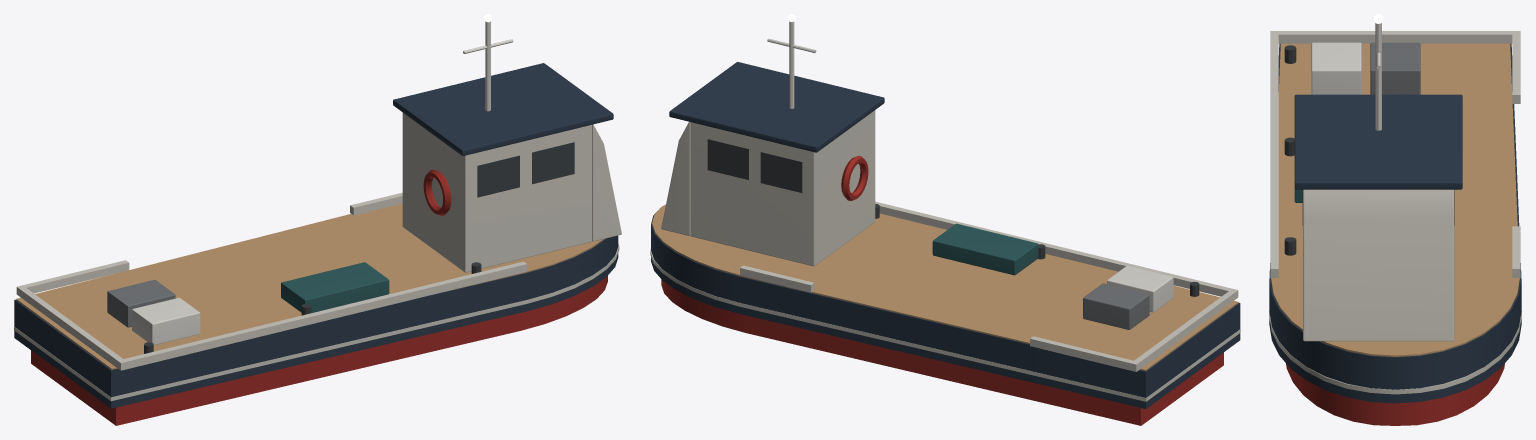
File: veh_boat_launch.glb
3 views of the same model, side by side, from view 1: azimuth 30°, elevation 25°; view 2: azimuth 150°, elevation 25°; view 3: azimuth 270°, elevation 25° (orthographic). The views are drawn at different scales.
Parts seen in each view (by area): view 1: Hull; view 2: Hull; view 3: Hull.
Part boxes in pixels (<box>): Hull: <box>14,14,621,425</box>; Hull: <box>650,14,1240,425</box>; Hull: <box>1269,14,1521,425</box>.
Bounding box in the file's own units: 9.01 × 4.51 × 3.01.
